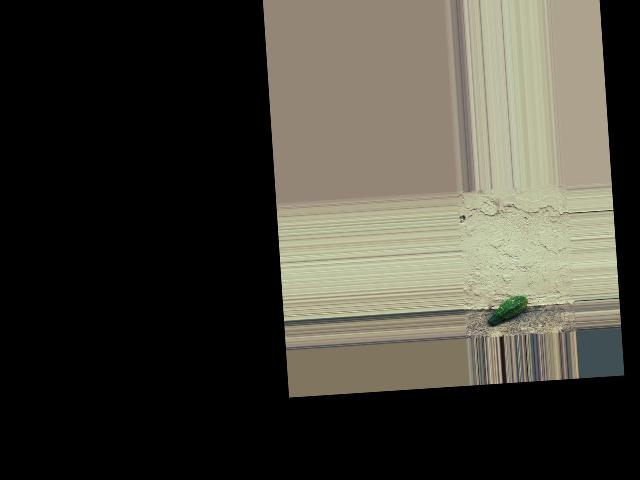cucumber: (487, 294, 529, 325)
